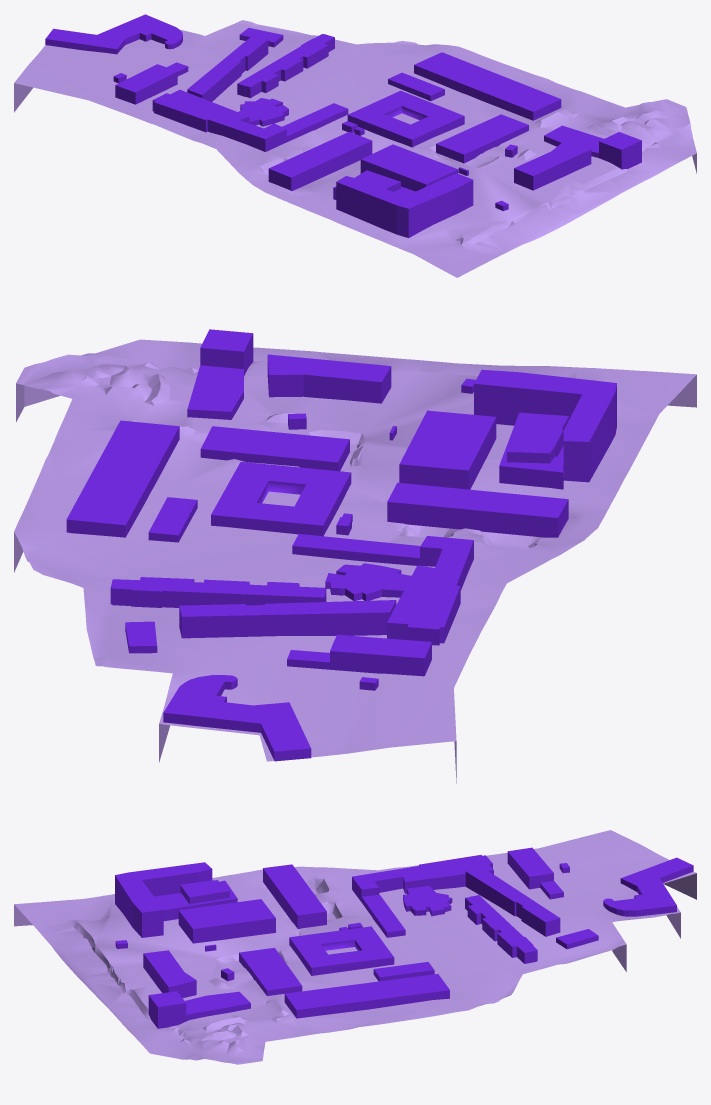
File: Campus.glb
The picture shows the model from 3 angles, top to bottom: view 1: azimuth 30°, elevation 25°; view 2: azimuth 150°, elevation 25°; view 3: azimuth 270°, elevation 25°; orthographic projection. The views are drawn at different scales.
Parts seen in each view (by area): view 1: tinMesh, maritim_1, building_H, building_G, building_A, MKK, wall_1, audi_institute, building_D, building_digital, building_C, brigK (+8 smaller); view 2: tinMesh, maritim_1, building_H, building_G, MKK, building_C, building_A, wall_1, audi_institute, building_D, brigK, building_digital (+12 smaller); view 3: tinMesh, building_H, maritim_1, building_G, audi_institute, building_A, wall_1, building_C, MKK, building_D, building_digital, brigK (+10 smaller).
Part boxes in pixels (x1,y1,x2,y2): tinMesh: (14,20,696,277); maritim_1: (336,173,473,237); building_H: (414,52,561,120); building_G: (347,90,464,147); building_A: (152,89,286,151); MKK: (268,131,372,190); wall_1: (45,14,182,54); audi_institute: (360,144,458,191); building_D: (237,34,334,98); building_digital: (436,114,528,163); building_C: (187,36,268,101); brigK: (514,142,591,190); tinMesh: (14,339,696,761); maritim_1: (474,369,616,482); building_H: (66,420,179,537); building_G: (211,461,351,536); MKK: (387,482,568,537); building_C: (179,600,396,638); building_A: (387,536,473,645); wall_1: (163,675,311,761); audi_institute: (399,410,496,489); building_D: (110,577,326,607); brigK: (267,354,391,403); building_digital: (200,426,349,471); tinMesh: (14,830,696,1064); building_H: (284,974,449,1018); maritim_1: (115,862,212,937); building_G: (289,926,394,975); audi_institute: (178,899,275,943); building_A: (352,855,493,901); wall_1: (603,857,693,916); building_C: (465,868,560,936); MKK: (263,864,326,928); building_D: (465,895,537,963); building_digital: (239,947,302,995); brigK: (143,950,196,997).
Bounding box in the file's own units: 633 × 67.05 × 789.
